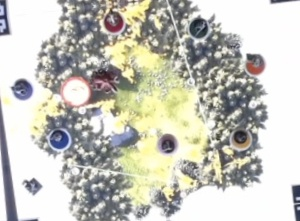blue: (45, 123, 71, 155)
green: (186, 13, 211, 40)
orange: (240, 50, 267, 77)
pink: (153, 129, 179, 158)
red: (98, 7, 129, 36)
violet: (8, 75, 37, 105)
yellow: (224, 123, 253, 152)
